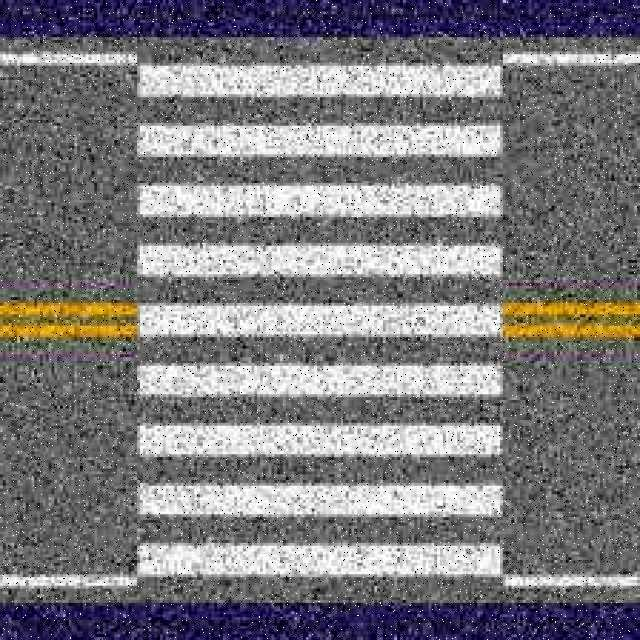crosswalk: (136, 37, 504, 624)
